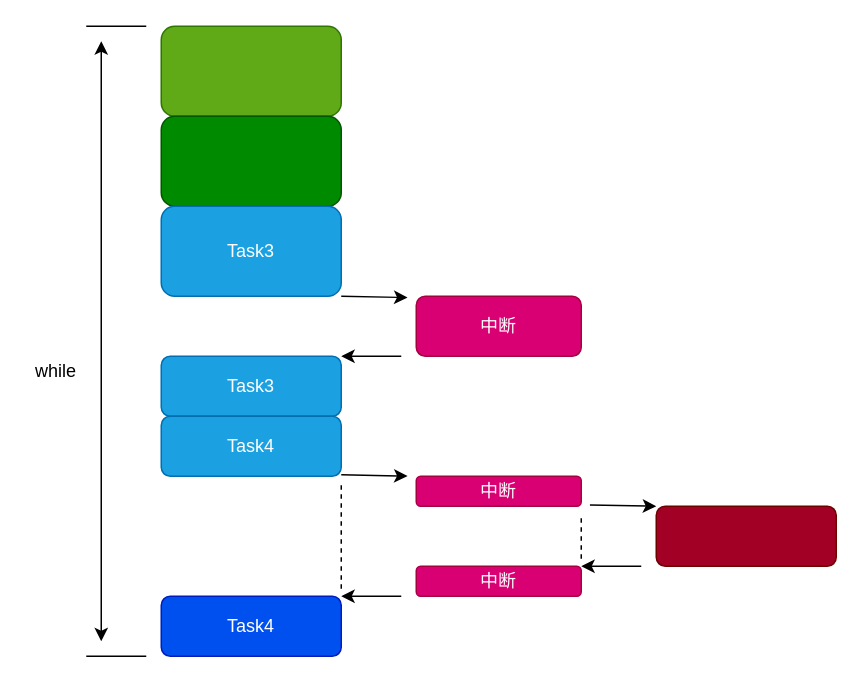
This 863x684 diagram has some shape labels left out. Here are the shapes that lost their labels. From the top down, the centre of each, then its label:
point (250, 70): Task1
point (250, 160): Task2
point (745, 535): 中断（高优先级）
